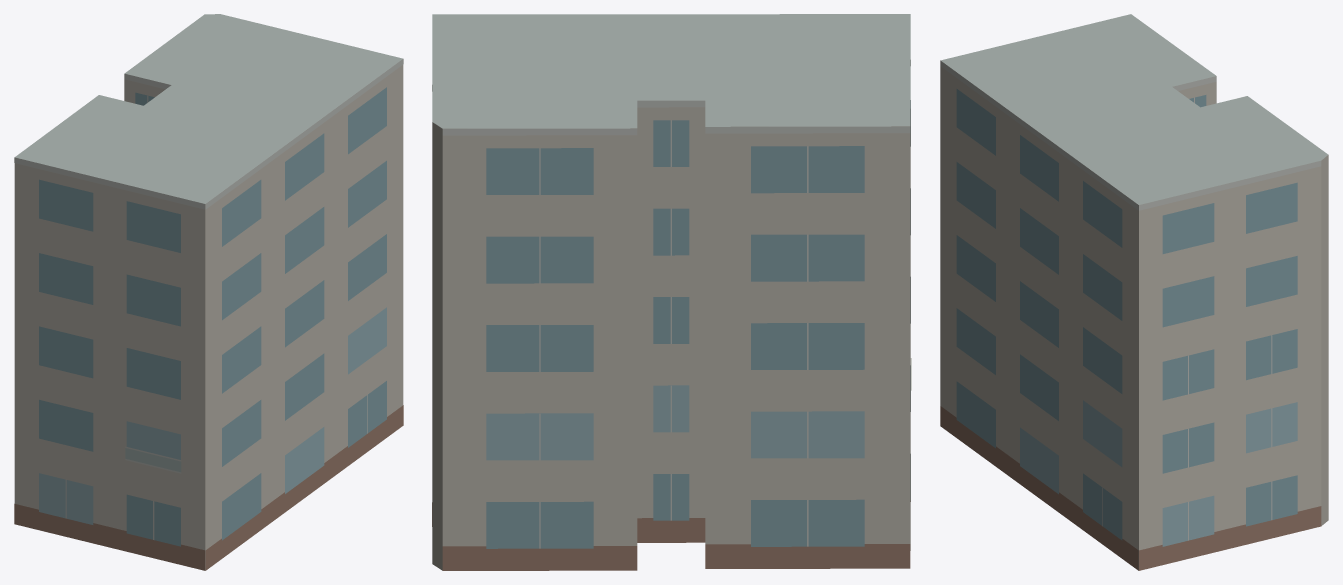
File: survey-upis-32908755.glb
3 renders of one model, left to right at view 1: azimuth 30°, elevation 25°; view 2: azimuth 150°, elevation 25°; view 3: azimuth 270°, elevation 25°, orthographic. The views are drawn at different scales.
Parts seen in each view (by area): view 1: survey-upis-32908755.tmp; view 2: survey-upis-32908755.tmp; view 3: survey-upis-32908755.tmp.
Boxes of the visible parts, <box> form: survey-upis-32908755.tmp: <box>14,14,403,570</box>; survey-upis-32908755.tmp: <box>432,14,911,570</box>; survey-upis-32908755.tmp: <box>940,14,1328,570</box>.
Size of the model in its own units: 17.6 by 15.7 by 15.11.
